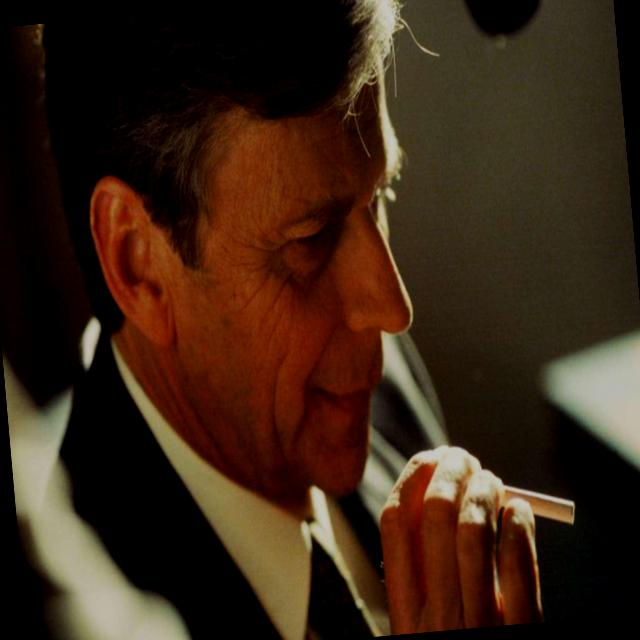cigarette: (466, 428, 594, 570)
